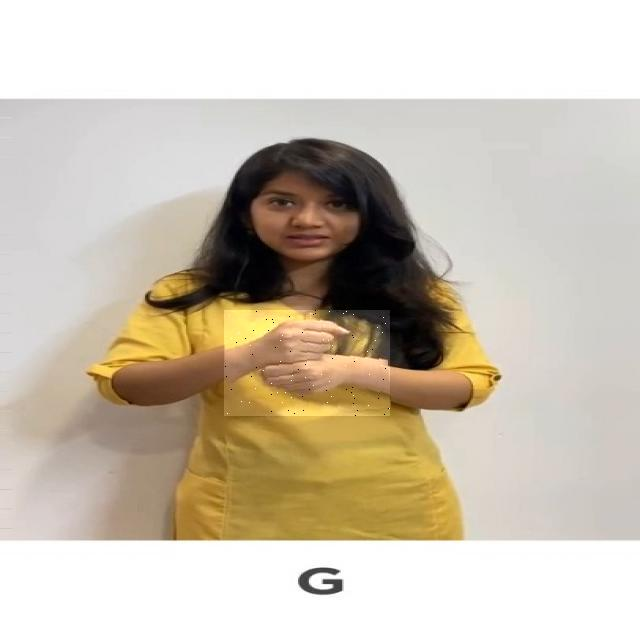G: (224, 310, 390, 416)
